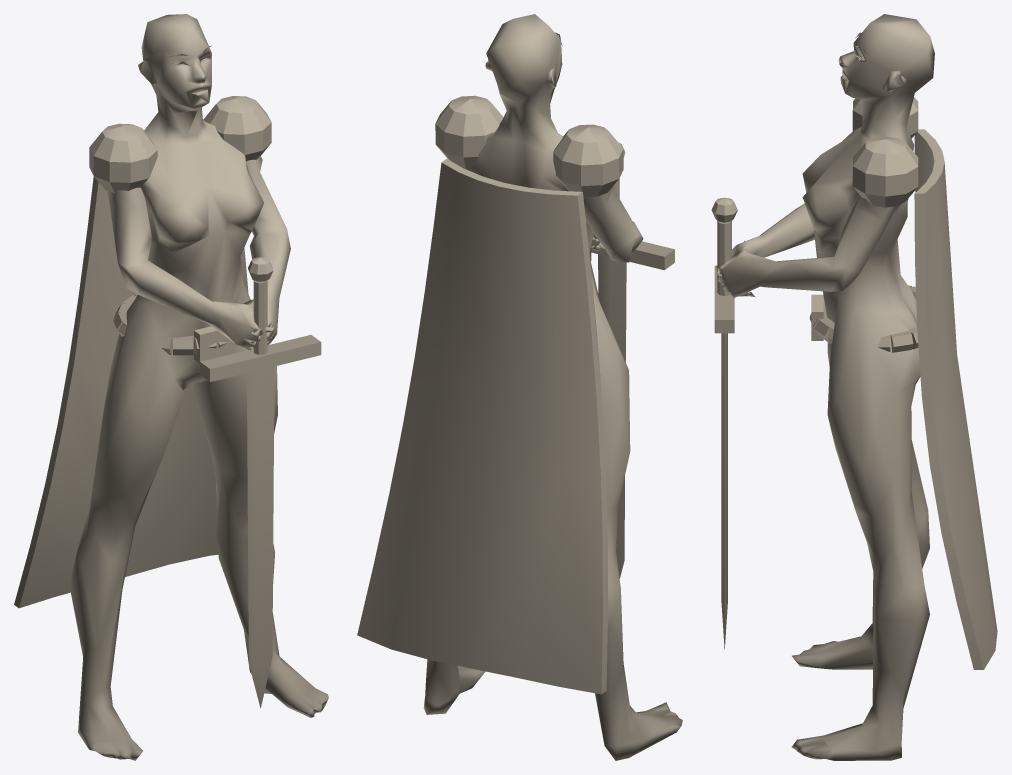
The model's file is hero_e4.glb.
3 views of the same model, side by side, from view 1: azimuth 30°, elevation 25°; view 2: azimuth 150°, elevation 25°; view 3: azimuth 270°, elevation 25° (orthographic). The views are drawn at different scales.
Visible parts, largest first — view 1: HERO_E42; view 2: HERO_E42; view 3: HERO_E42.
Boxes of the visible parts, box(x1,y1,x2,y2) form: HERO_E42: box(14, 14, 328, 760); HERO_E42: box(357, 14, 682, 760); HERO_E42: box(711, 14, 997, 760).
Bounding box in the file's own units: 1.17 × 3.28 × 1.22.
